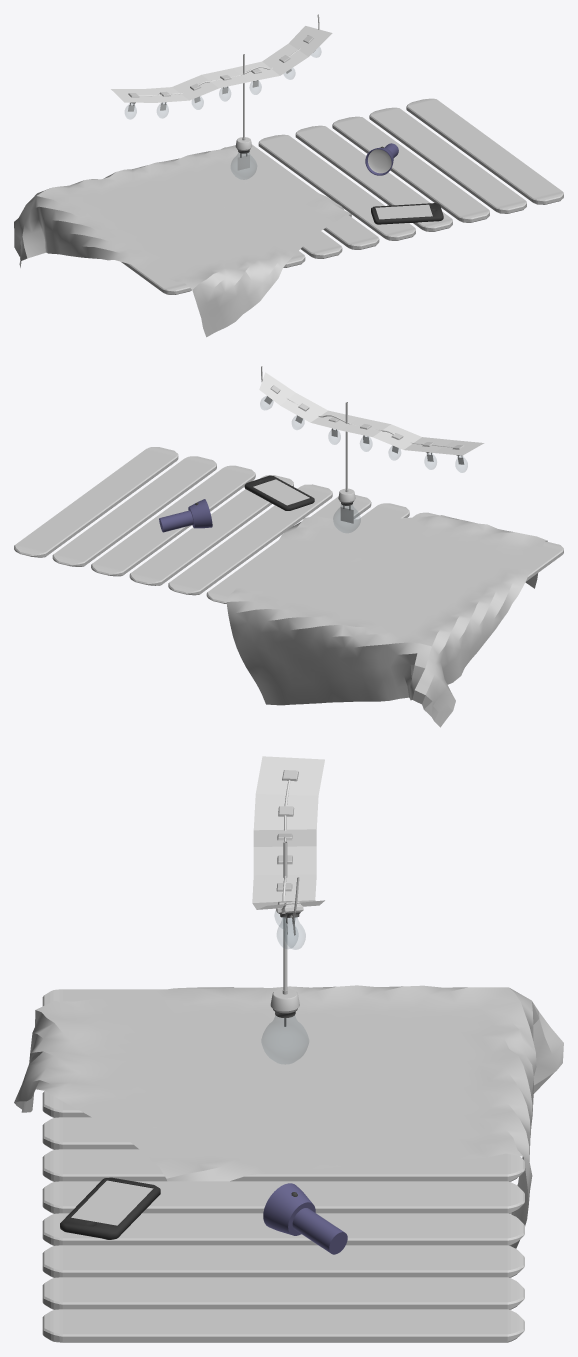
The model's file is MoskitoScene.fbx.
The picture shows the model from 3 angles, top to bottom: view 1: azimuth 30°, elevation 25°; view 2: azimuth 150°, elevation 25°; view 3: azimuth 270°, elevation 25°; orthographic projection. The views are drawn at different scales.
Parts seen in each view (by area): view 1: TableCloth, Table, Guirlande, Phone, Lamp, MainLightBulb; view 2: TableCloth, Table, Guirlande, Phone, Lamp, MainLightBulb; view 3: TableCloth, Table, Guirlande, Phone, Lamp, MainLightBulb, Guirlande|SmallLightBulb|Dupli|6.7.0.0.0.0.0.0.0.0.
Part boxes in pixels (<box>): TableCloth: <box>14,147,351,337</box>; Table: <box>121,98,563,294</box>; Guirlande: <box>111,26,332,102</box>; Phone: <box>371,203,443,224</box>; Lamp: <box>365,143,398,175</box>; MainLightBulb: <box>231,148,256,179</box>; TableCloth: <box>226,515,547,727</box>; Table: <box>14,447,563,603</box>; Guirlande: <box>259,372,484,455</box>; Phone: <box>244,475,314,510</box>; Lamp: <box>159,499,212,532</box>; MainLightBulb: <box>333,500,360,532</box>; TableCloth: <box>14,985,563,1248</box>; Table: <box>42,989,524,1342</box>; Guirlande: <box>252,756,324,909</box>; Phone: <box>60,1177,160,1239</box>; Lamp: <box>263,1183,347,1254</box>; MainLightBulb: <box>261,1008,308,1064</box>; Guirlande|SmallLightBulb|Dupli|6.7.0.0.0.0.0.0.0.0: <box>281,901,305,949</box>.
Bounding box in the file's own units: 2719 × 1674 × 1743.
